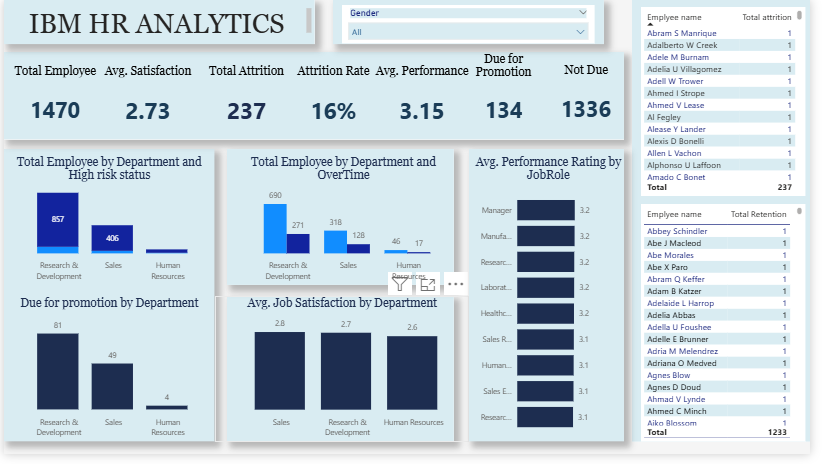

The dashboard page shown, as its layout file describes it:
{"tool":"powerbi","page":{"name":"HR DASHBOARD 2","canvas":[1280,720],"ordinal":1},"visuals":[{"type":"shape","box":[0,236.8,334.5,464.4],"z":0},{"type":"shape","box":[0,82.9,984.3,138.6],"z":1000},{"type":"shape","box":[354.3,470,360,231.4],"z":2000},{"type":"shape","box":[354.3,237.1,360,215.7],"z":3000},{"type":"cardVisual","title":"Total Attrition","fields":{"Data":["IBM HR Employee Attrition Data.Total employee who left"]},"box":[305.7,101.4,157.1,120],"z":4000},{"type":"cardVisual","title":"Total Employee","fields":{"Data":["IBM HR Employee Attrition Data.Total Employee"]},"box":[0,101.4,162.9,120],"z":5000},{"type":"cardVisual","title":"Attrition Rate","fields":{"Data":["IBM HR Employee Attrition Data.AttritionRate"]},"box":[450,101.4,144.3,120],"z":6000},{"type":"cardVisual","title":"Avg. Performance","fields":{"Data":["IBM HR Employee Attrition Data.AvgPerformance"]},"box":[580,101.4,168.6,120],"z":7000},{"type":"cardVisual","title":"Avg. Satisfaction","fields":{"Data":["IBM HR Employee Attrition Data.AvgSatisfaction"]},"box":[150,101.4,155.7,120],"z":8000},{"type":"columnChart","fields":{"Category":["IBM HR Employee Attrition Data.Department"],"Y":["IBM HR Employee Attrition Data.AvgSatisfaction"]},"box":[334.3,470,404.3,231.4],"z":9000},{"type":"columnChart","fields":{"Category":["IBM HR Employee Attrition Data.Department"],"Y":["IBM HR Employee Attrition Data.Due for promotion"]},"box":[0,470.1,334.5,231],"z":10000},{"type":"columnChart","fields":{"Category":["IBM HR Employee Attrition Data.Department"],"Series":["IBM HR Employee Attrition Data.High risk status"],"Y":["IBM HR Employee Attrition Data.Total Employee"]},"box":[0,245.7,334.3,207.1],"z":11000},{"type":"clusteredColumnChart","fields":{"Category":["IBM HR Employee Attrition Data.Department"],"Y":["IBM HR Employee Attrition Data.Total Employee"],"Series":["IBM HR Employee Attrition Data.OverTime"]},"box":[354.3,245.7,370,207.1],"z":12000},{"type":"shape","box":[997.1,0,282.9,701.4],"z":13000},{"type":"shape","box":[738.5,237.2,246.2,464.1],"z":14000},{"type":"barChart","title":"Avg. Performance Rating by JobRole","fields":{"Category":["IBM HR Employee Attrition Data.JobRole"],"Y":["IBM HR Employee Attrition Data.AvgPerformance"]},"box":[738.9,245.8,248.6,454.2],"z":15000},{"type":"shape","box":[522.9,0,430,70],"z":16000},{"type":"pivotTable","fields":{"Values":["IBM HR Employee Attrition Data.Total attrition"],"Rows":["HR employee data.Emplyee name"]},"box":[1011.4,11.4,261.4,300],"z":17000},{"type":"shape","box":[0,0,493.1,70.1],"z":18000},{"type":"textbox","box":[0,8,493.1,52.9],"z":19000},{"type":"pivotTable","fields":{"Values":["IBM HR Employee Attrition Data.Total employee who are still working"],"Rows":["HR employee data.Emplyee name"]},"box":[1011.4,324.3,261.4,377.1],"z":20000},{"type":"slicer","fields":{"Values":["IBM HR Employee Attrition Data.Gender"]},"box":[537.1,8.6,401.4,61.4],"z":21000},{"type":"cardVisual","title":"Due for Promotion","fields":{"Data":["IBM HR Employee Attrition Data.Due for Promotion"]},"box":[723.7,82.5,138.1,138.1],"z":22000},{"type":"cardVisual","title":"Not Due","fields":{"Data":["IBM HR Employee Attrition Data.Not Due for promotion"]},"box":[850.5,100,146.4,120.6],"z":23000}]}

Visuals, with their boxes in screenshot pixels (x1, y1, x2, y2), scaled from the page's 1280x720 canvas onto the 824x464 screenshot:
shape: region(0, 153, 215, 452)
shape: region(0, 53, 634, 143)
shape: region(228, 303, 460, 452)
shape: region(228, 153, 460, 292)
"Total Attrition" cardVisual: region(197, 65, 298, 143)
"Total Employee" cardVisual: region(0, 65, 105, 143)
"Attrition Rate" cardVisual: region(290, 65, 383, 143)
"Avg. Performance" cardVisual: region(373, 65, 482, 143)
"Avg. Satisfaction" cardVisual: region(97, 65, 197, 143)
columnChart - IBM HR Employee Attrition Data.Department x IBM HR Employee Attrition Data.AvgSatisfaction: region(215, 303, 475, 452)
columnChart - IBM HR Employee Attrition Data.Department x IBM HR Employee Attrition Data.Due for promotion: region(0, 303, 215, 452)
columnChart - IBM HR Employee Attrition Data.Department x IBM HR Employee Attrition Data.High risk status: region(0, 158, 215, 292)
clusteredColumnChart - IBM HR Employee Attrition Data.Department x IBM HR Employee Attrition Data.Total Employee: region(228, 158, 466, 292)
shape: region(642, 0, 823, 452)
shape: region(475, 153, 634, 452)
"Avg. Performance Rating by JobRole" barChart: region(476, 158, 636, 451)
shape: region(337, 0, 613, 45)
pivotTable - IBM HR Employee Attrition Data.Total attrition x HR employee data.Emplyee name: region(651, 7, 819, 201)
shape: region(0, 0, 317, 45)
textbox: region(0, 5, 317, 39)
pivotTable - IBM HR Employee Attrition Data.Total employee who are still working x HR employee data.Emplyee name: region(651, 209, 819, 452)
slicer - IBM HR Employee Attrition Data.Gender: region(346, 6, 604, 45)
"Due for Promotion" cardVisual: region(466, 53, 555, 142)
"Not Due" cardVisual: region(548, 64, 642, 142)
